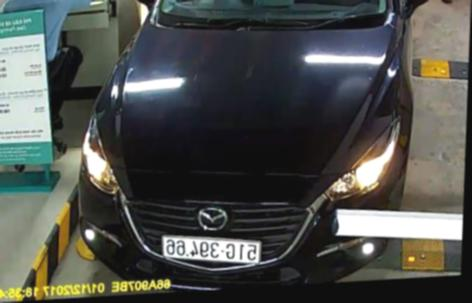License_Plate: (160, 230, 266, 272)
